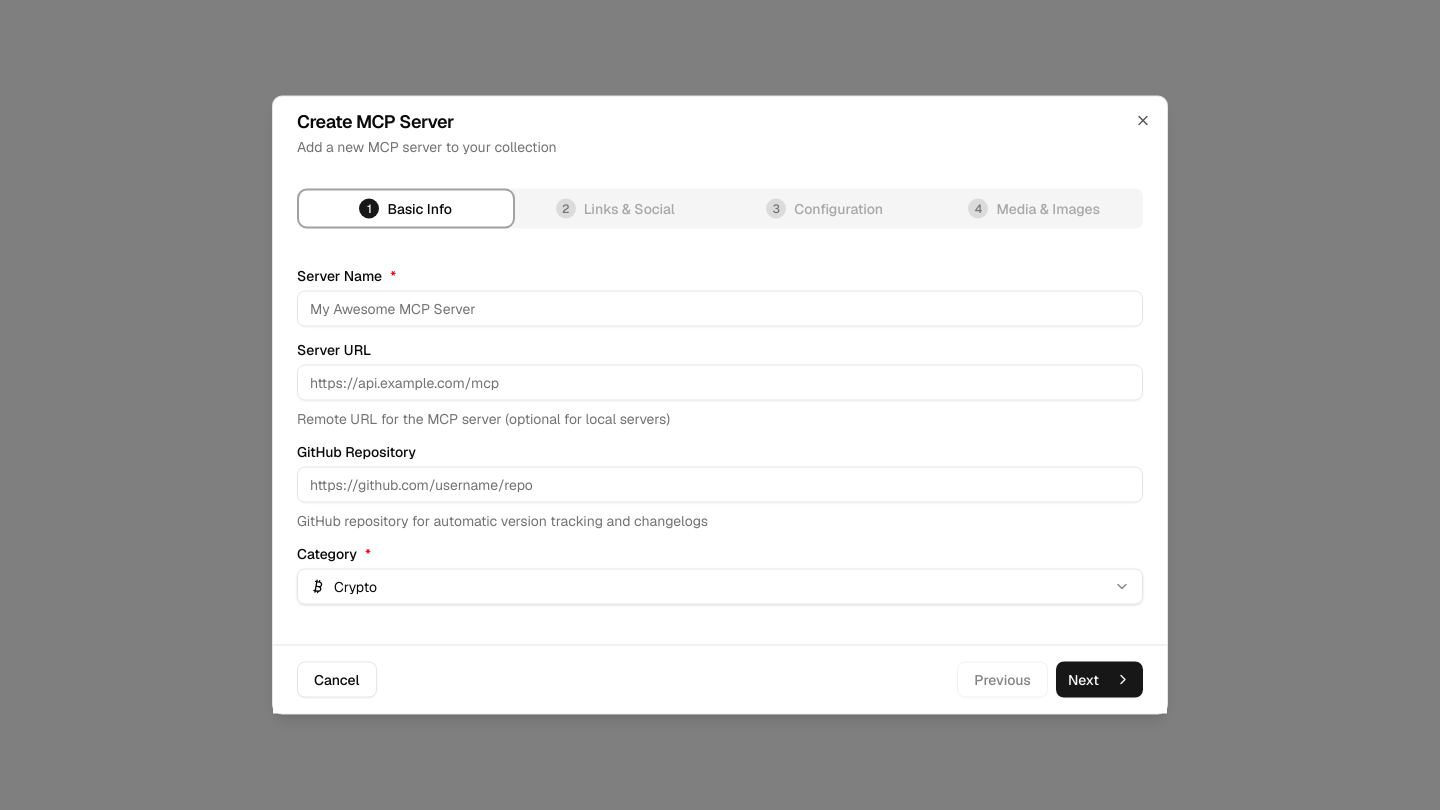
Test: CreateMcpServerForm › Validation Failures › should validate GitHub URL format
Type "Test Server" into the field with test id "name-input" at (720, 308), box [297,290,1143,326]
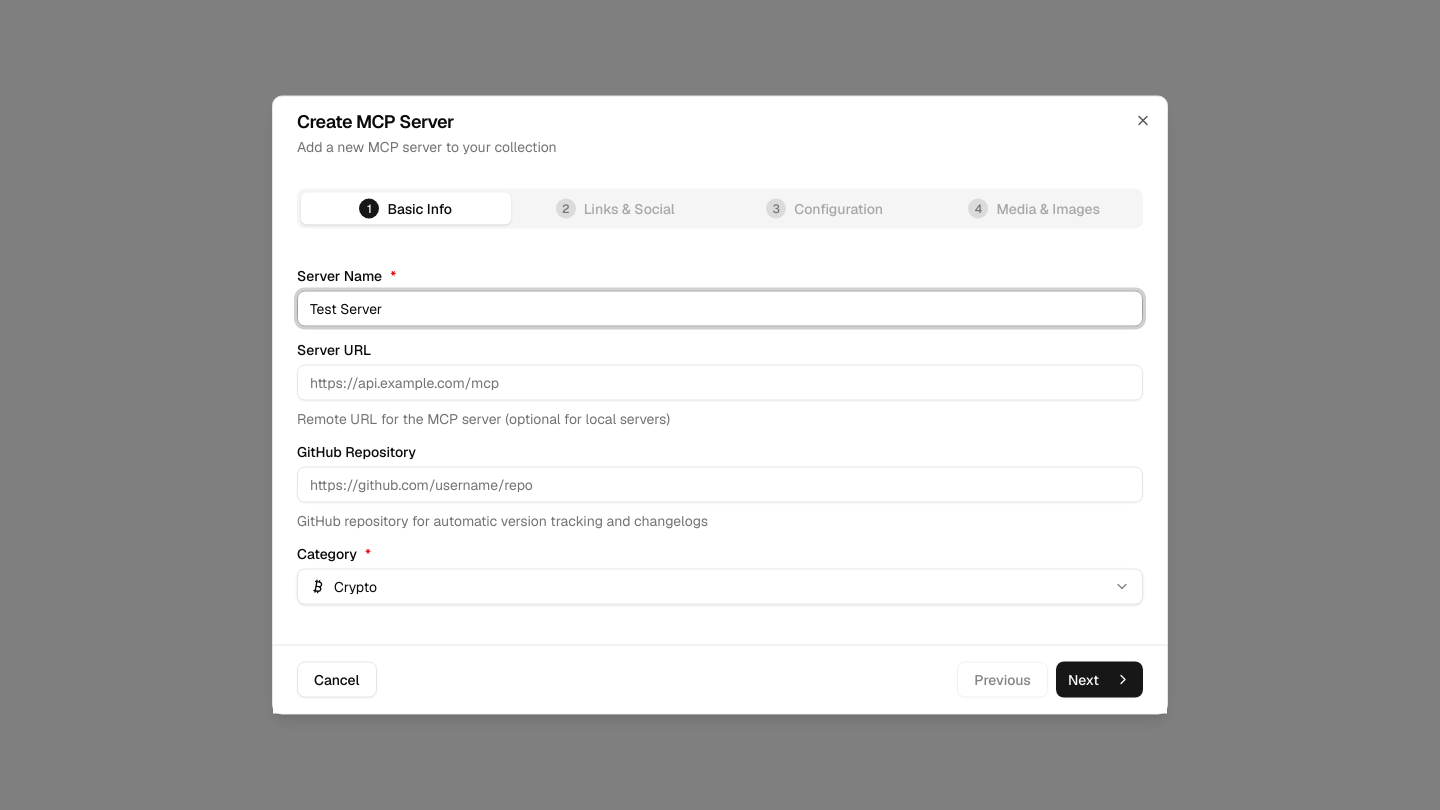
Type "not-a-url" into the field with test id "github-input" at (720, 484), box [297,466,1143,502]
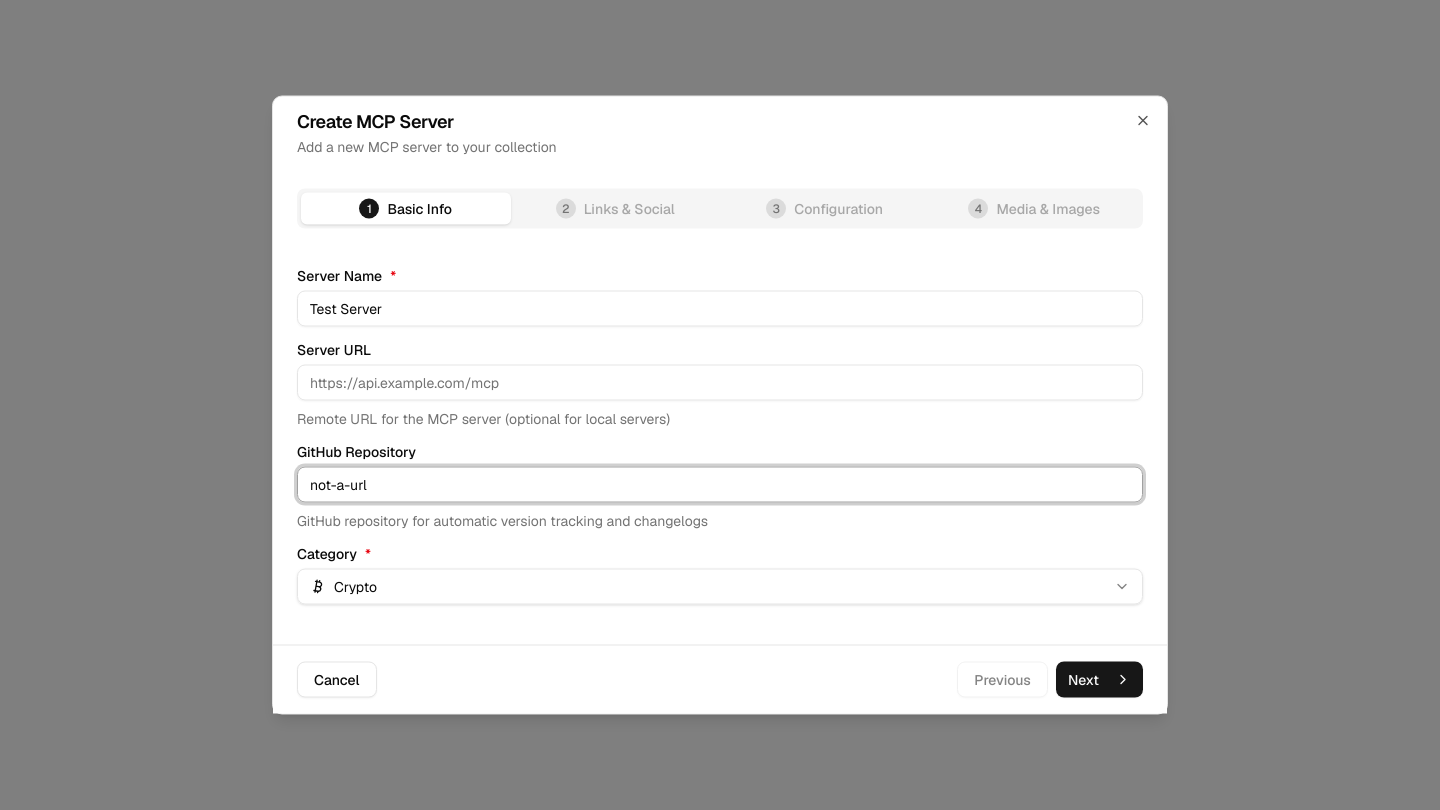
Click the button with test id "next-button" at (1099, 680), box [1056,662,1143,698]
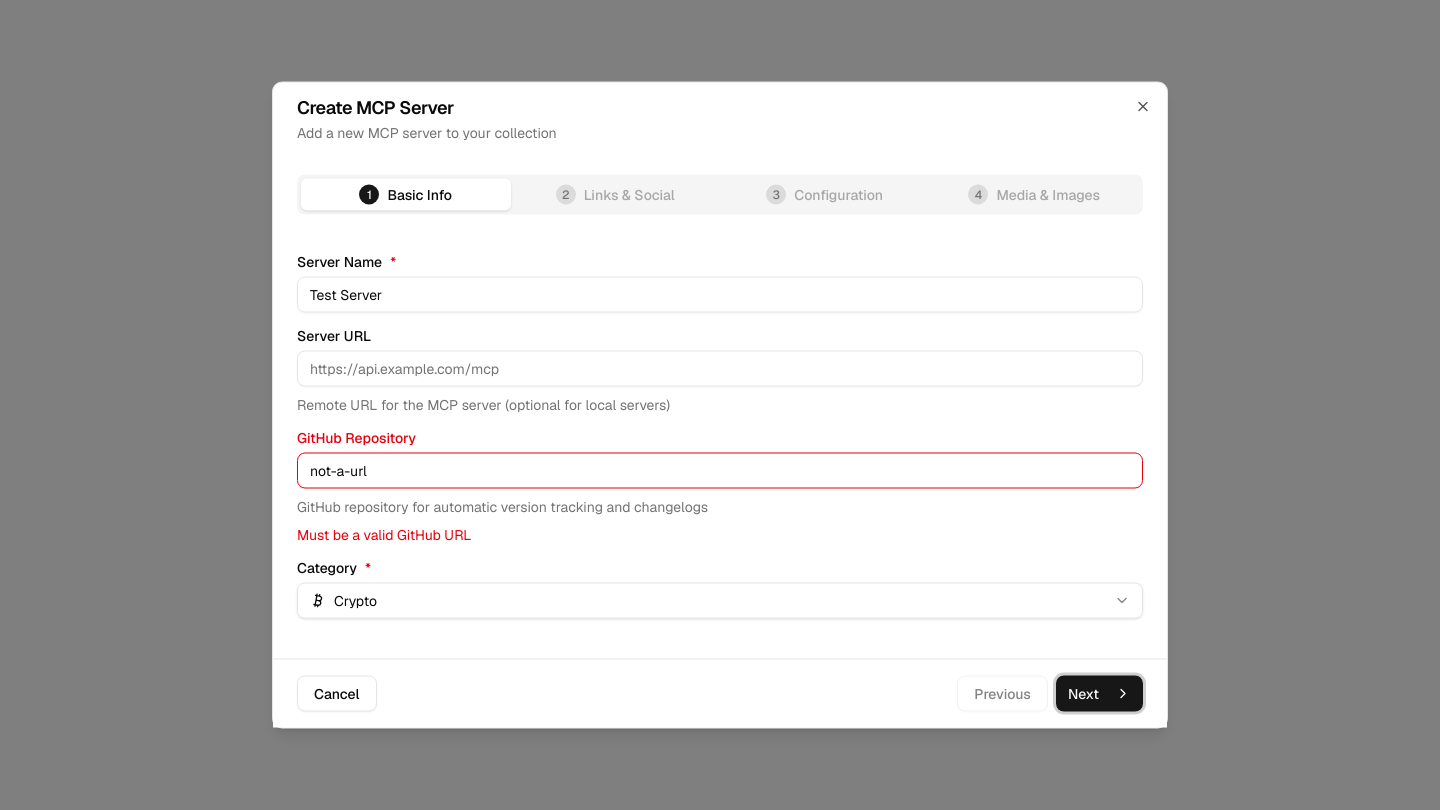
Now the text "Must be a valid GitHub URL" is shown, box [297,526,472,544]
